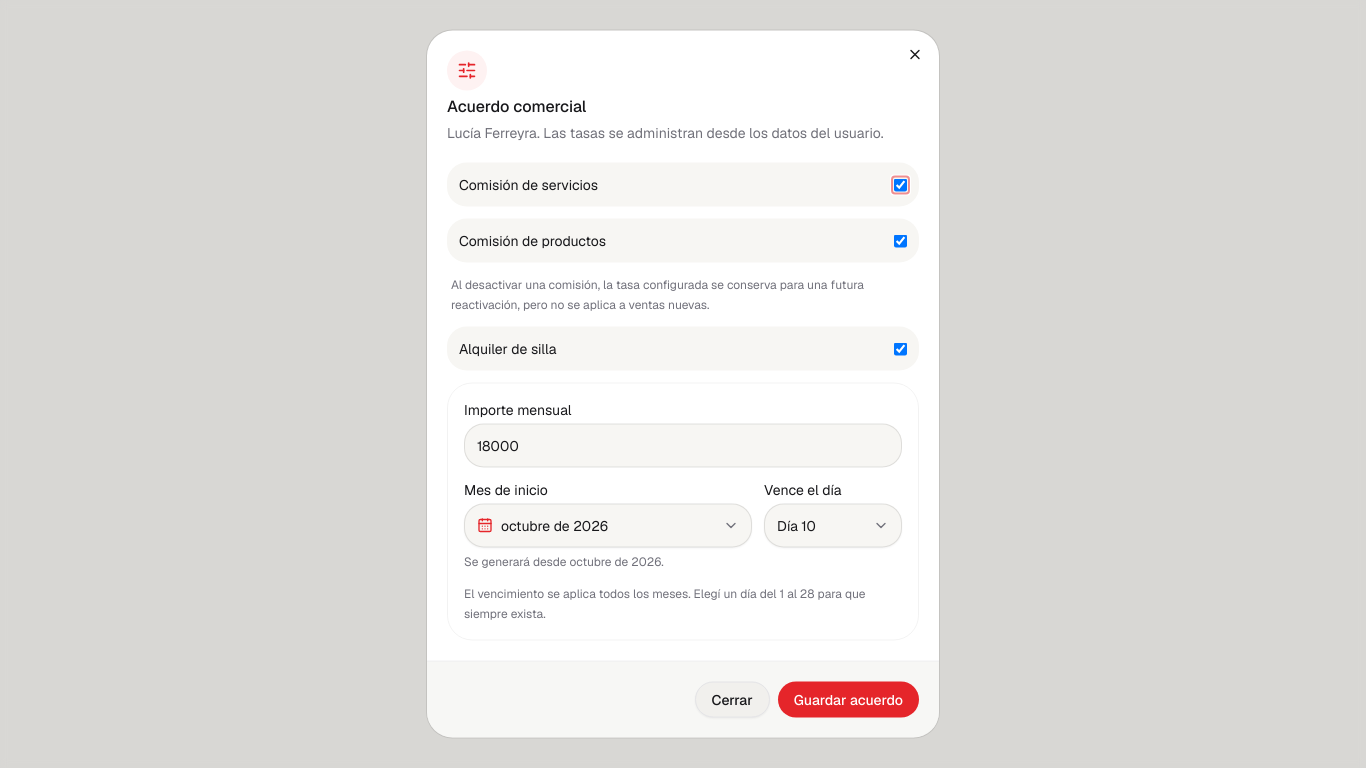
Test: EmployeeAgreementDialog calendar selectors › selects a month and a day without exposing free-form date inputs
Expected: the text "la tasa configurada se conserva" is shown, [451,276,864,312]
Click the button with aria-label "Seleccionar mes de inicio". click: (608, 526)
box: [464,504,752,548]
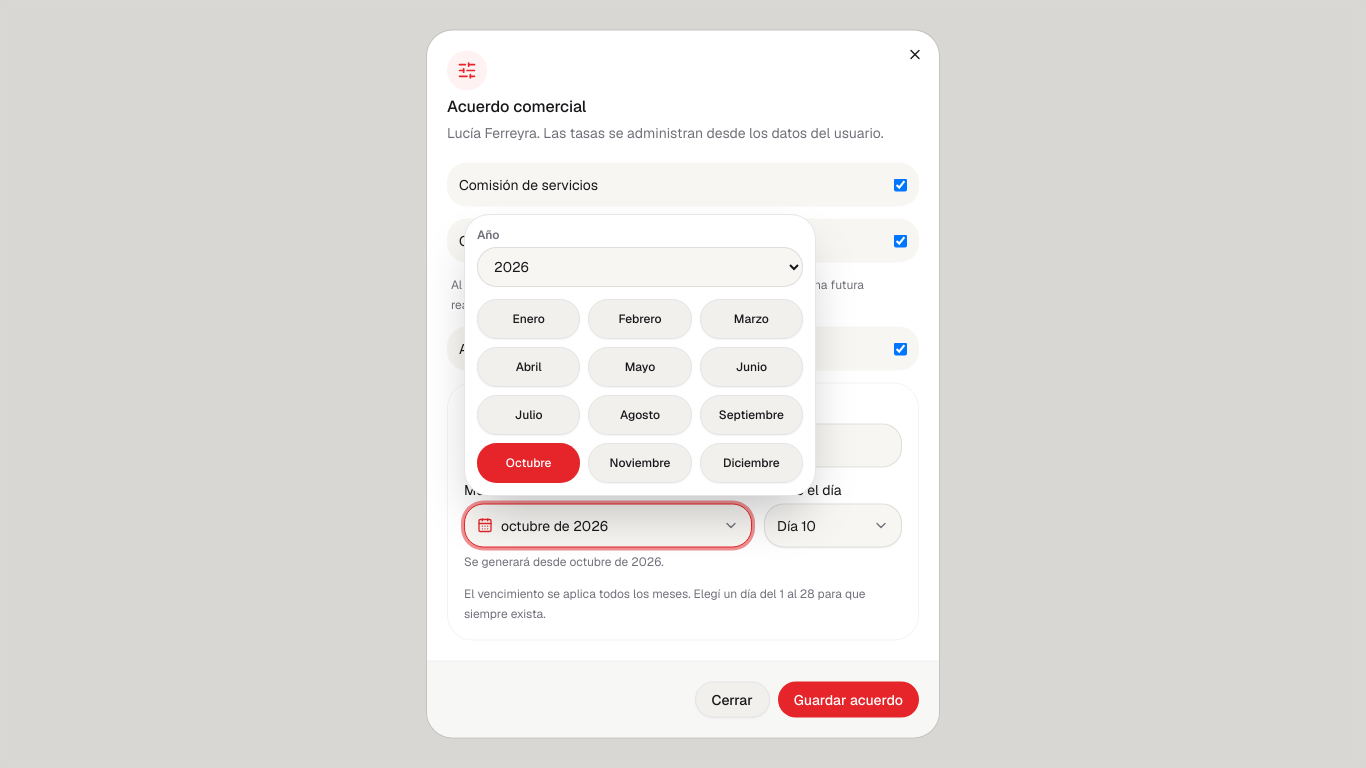
Click the button "noviembre". click: (640, 462)
box: [588,442,692,482]
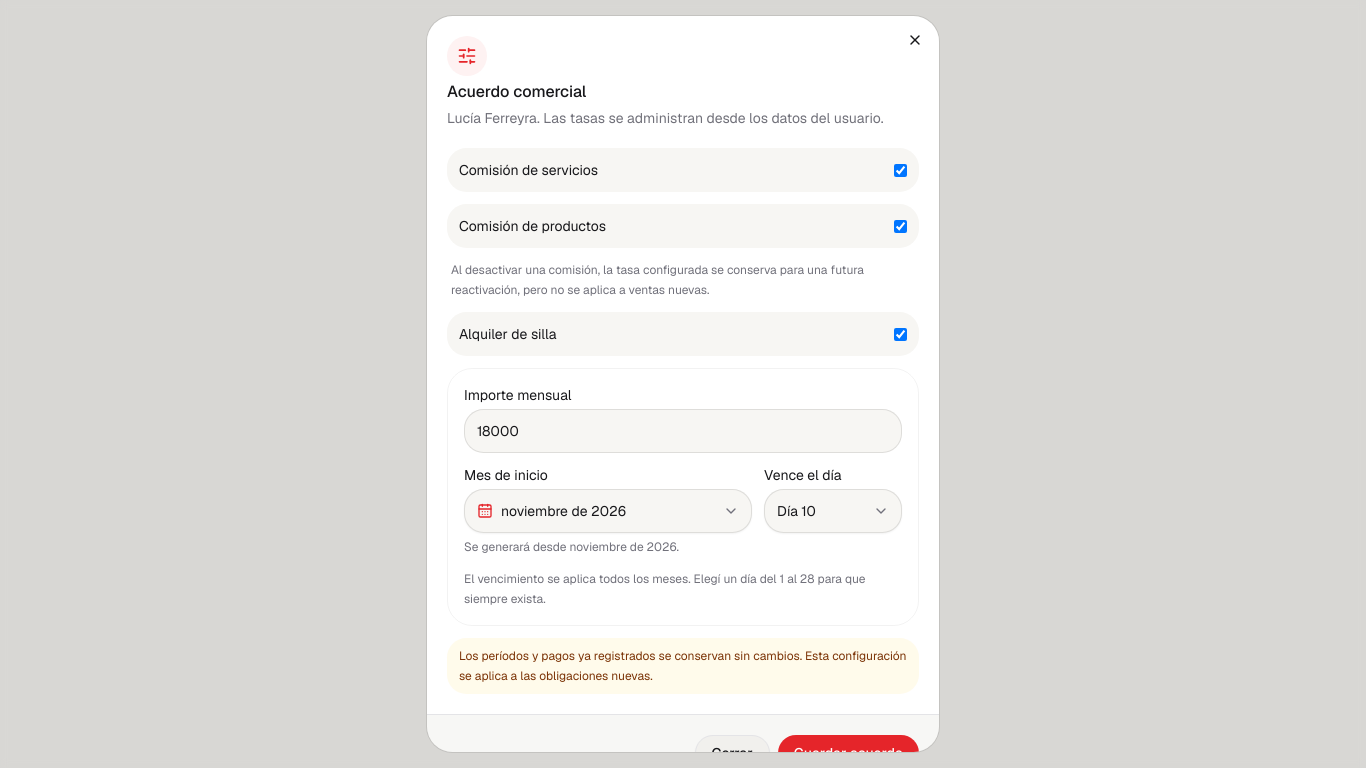
Expected: the button with aria-label "Seleccionar mes de inicio" reads "noviembre de 2026", [464,489,752,533]
Click the button with aria-label "Seleccionar día de vencimiento". click: (833, 511)
box: [764,489,902,533]
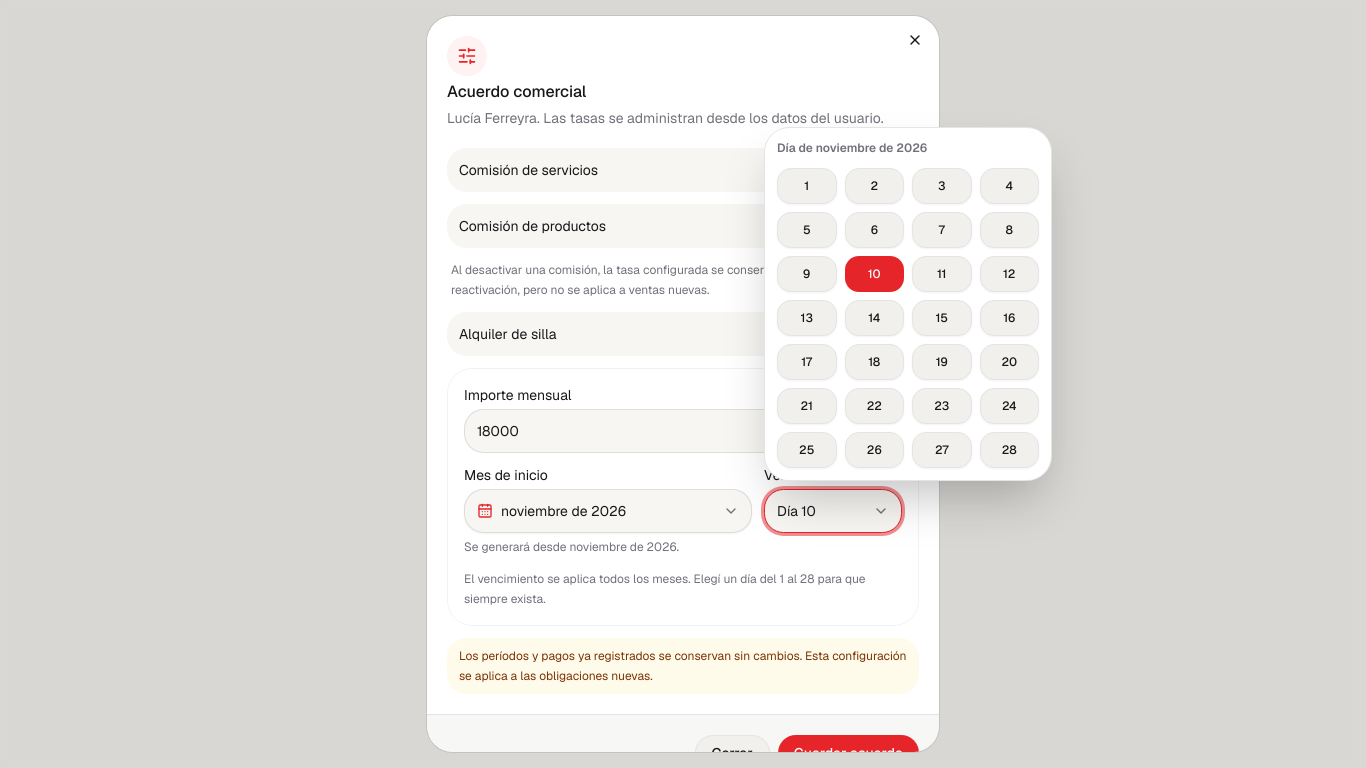
Click the button named "Día 15". click: (942, 318)
box: [912,300,972,336]
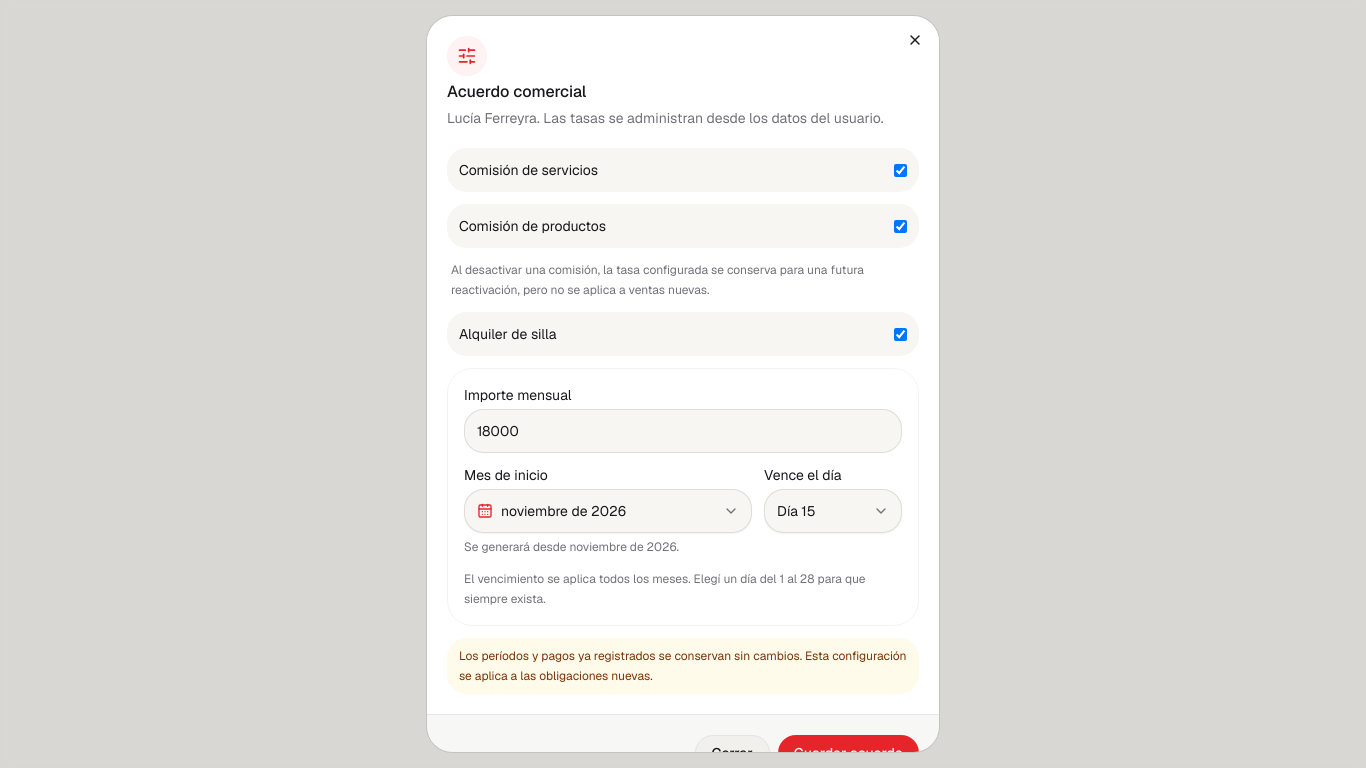
Expected: the text "Vence el día" is shown, [764,466,841,484]
Expected: the button with aria-label "Seleccionar día de vencimiento" reads "Día 15", [764,489,902,533]
